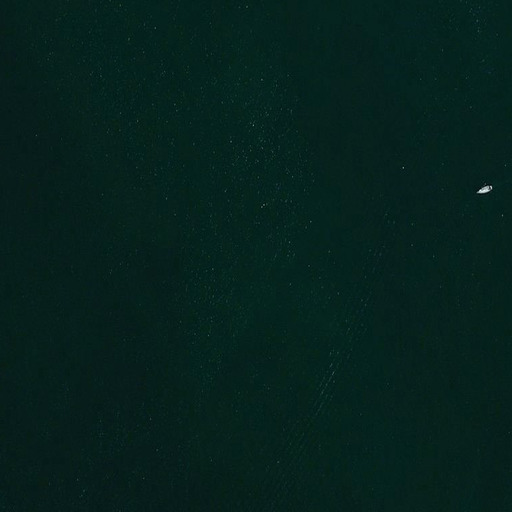ship: (475, 183, 494, 196)
